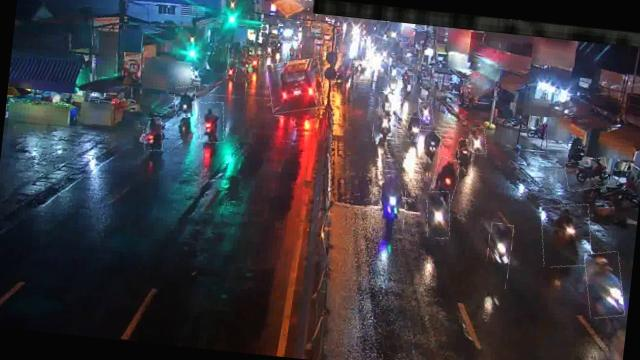Bike: (538, 202, 595, 270), (581, 250, 628, 321), (369, 170, 409, 238), (484, 223, 514, 289), (562, 156, 610, 194), (431, 156, 462, 202), (423, 190, 452, 239), (197, 102, 226, 144), (372, 109, 398, 144), (415, 130, 441, 164), (173, 85, 198, 118), (142, 117, 164, 152), (456, 139, 474, 177), (468, 126, 488, 154), (416, 101, 434, 128), (377, 91, 394, 118), (406, 116, 422, 142), (402, 74, 415, 95), (225, 60, 237, 82)
Bus: (264, 56, 326, 116)
